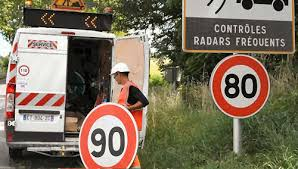sp80: (211, 60, 273, 114)
sp90: (85, 106, 138, 166)
